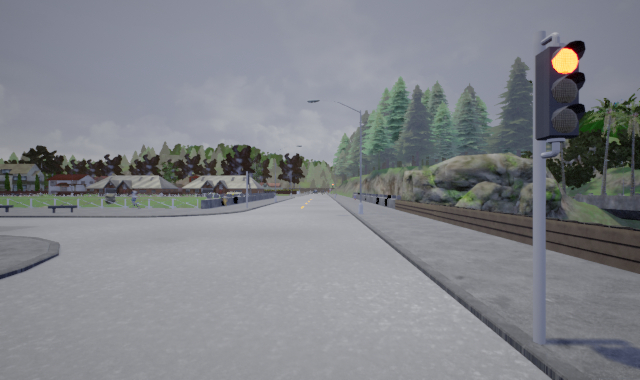pedestrian: (127, 186, 139, 208)
traffic_light: (535, 39, 585, 143)
